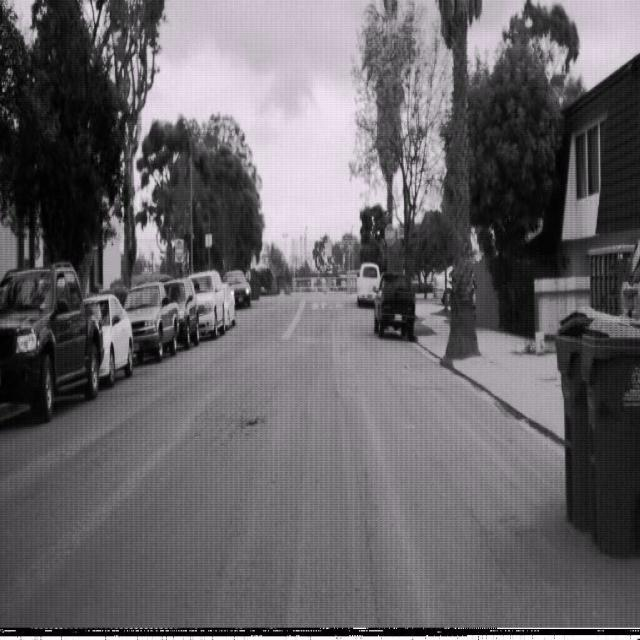stop_sign: (384, 223, 396, 247)
